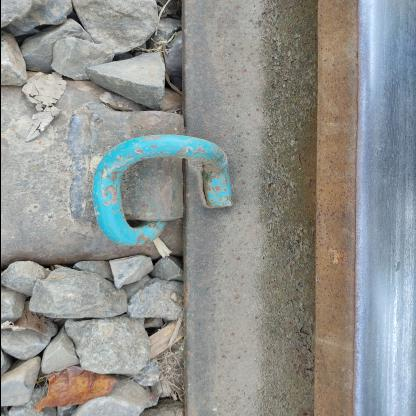Non Defective 1: (117, 141, 352, 329)
